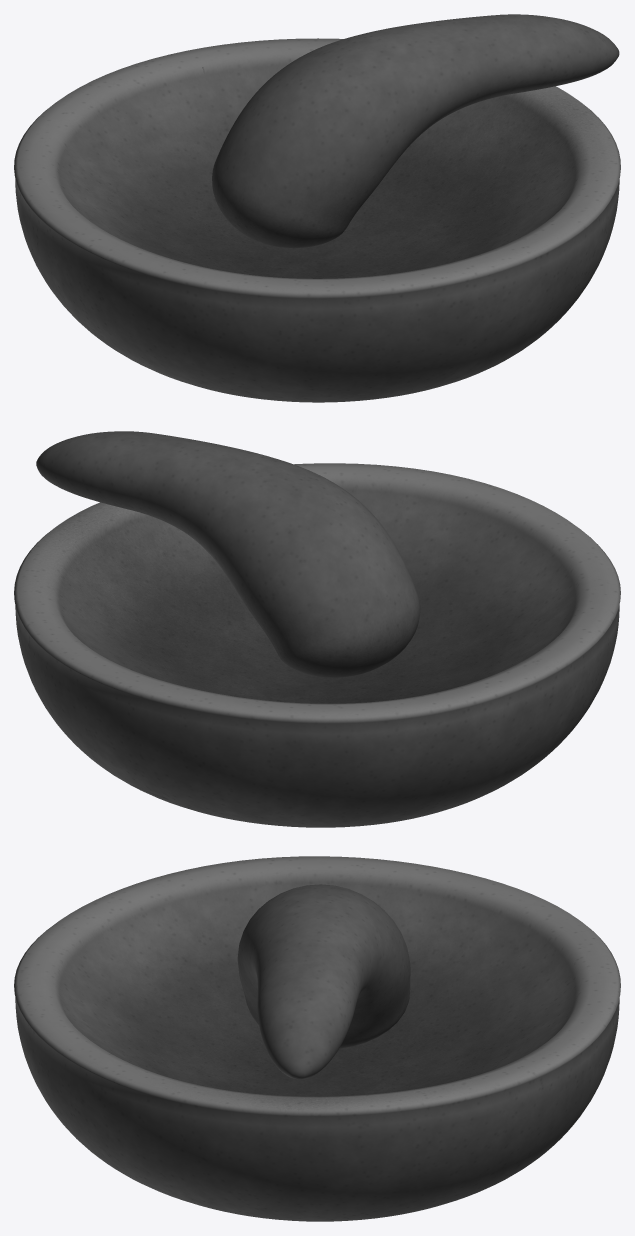
The model's file is cobek.glb.
3 views of the same model, one above another, from view 1: azimuth 30°, elevation 25°; view 2: azimuth 150°, elevation 25°; view 3: azimuth 270°, elevation 25° (orthographic).
Visible parts, largest first — view 1: Cobek, Ulekan; view 2: Cobek, Ulekan; view 3: Cobek, Ulekan.
Boxes of the visible parts, left/top/right/bottom form: Cobek: left=14, top=38, right=620, bottom=402; Ulekan: left=212, top=14, right=619, bottom=247; Cobek: left=14, top=463, right=620, bottom=827; Ulekan: left=36, top=431, right=420, bottom=677; Cobek: left=14, top=856, right=620, bottom=1221; Ulekan: left=237, top=884, right=410, bottom=1079.
Bounding box in the file's own units: 0.2528 × 0.1214 × 0.241.
Materials: 1 (1 with a texture image).
